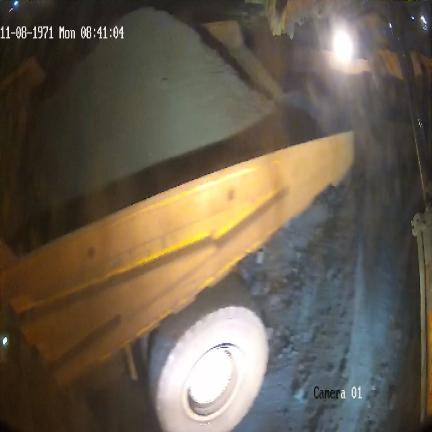pile: (29, 12, 286, 246), (247, 127, 416, 423)
